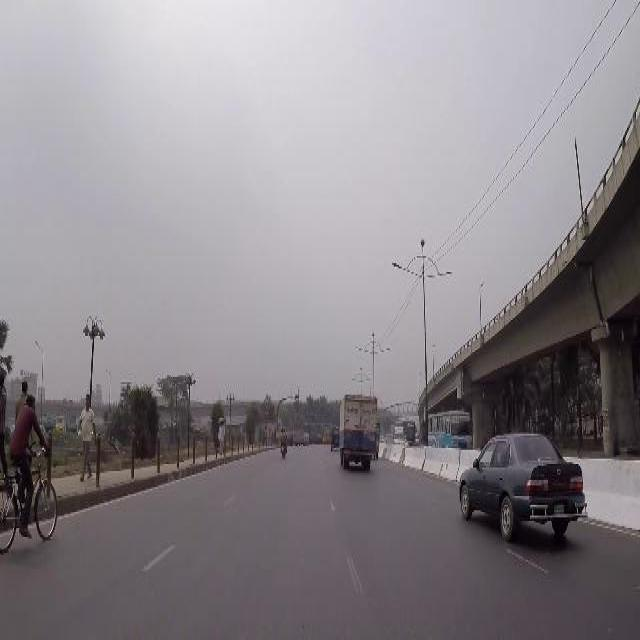bus: (426, 409, 471, 446), (291, 420, 308, 444), (400, 416, 415, 443), (322, 421, 330, 443)
car: (459, 428, 587, 537)
motorcycle: (278, 425, 287, 457)
truck: (339, 393, 378, 466), (393, 423, 405, 445), (329, 425, 338, 450)
